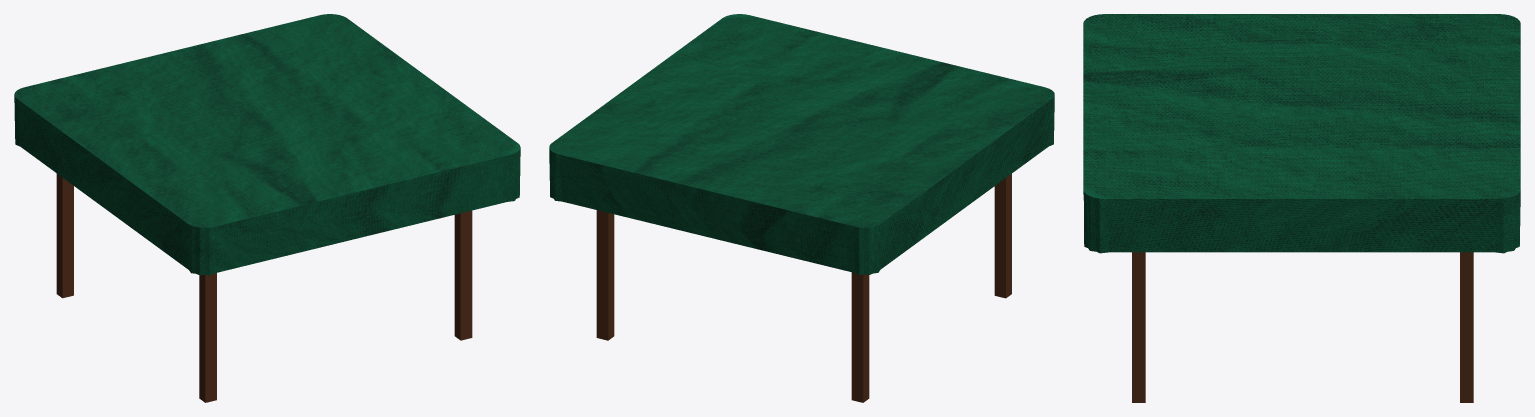
File: TableAndCloth.fbx
The picture shows the model from 3 angles, left to right: view 1: azimuth 30°, elevation 25°; view 2: azimuth 150°, elevation 25°; view 3: azimuth 270°, elevation 25°; orthographic projection. The views are drawn at different scales.
Visible parts, largest first — view 1: TableCloth, Table; view 2: TableCloth, Table; view 3: TableCloth, Table.
Part boxes in pixels (x1,y1,x2,y2): TableCloth: (14, 14, 520, 275); Table: (56, 173, 472, 402); TableCloth: (549, 14, 1054, 274); Table: (596, 174, 1011, 402); TableCloth: (1083, 14, 1520, 253); Table: (1132, 252, 1473, 402).
Size of the model in its own units: 464 by 261 by 464.
Materials: 2 (1 with a texture image).
